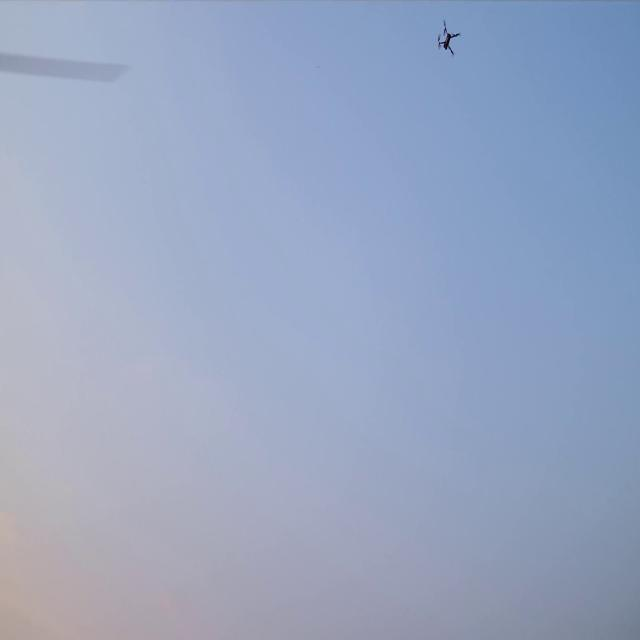UAV: (438, 24, 458, 53)
